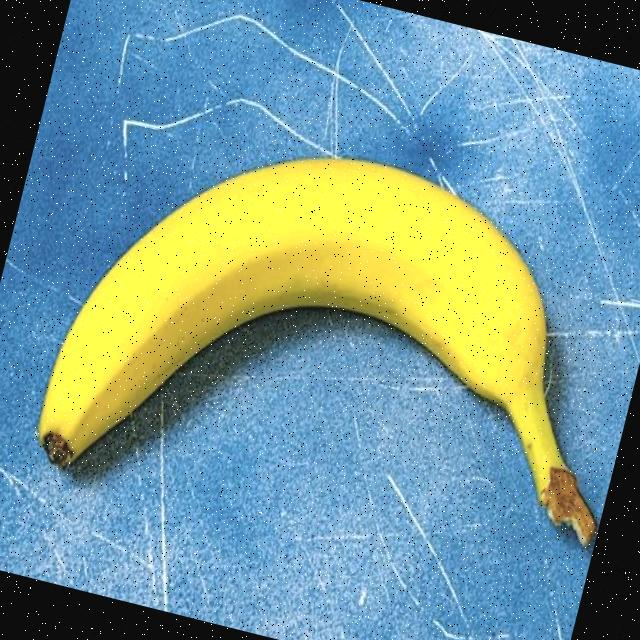Ripe: (2, 48, 640, 625)
